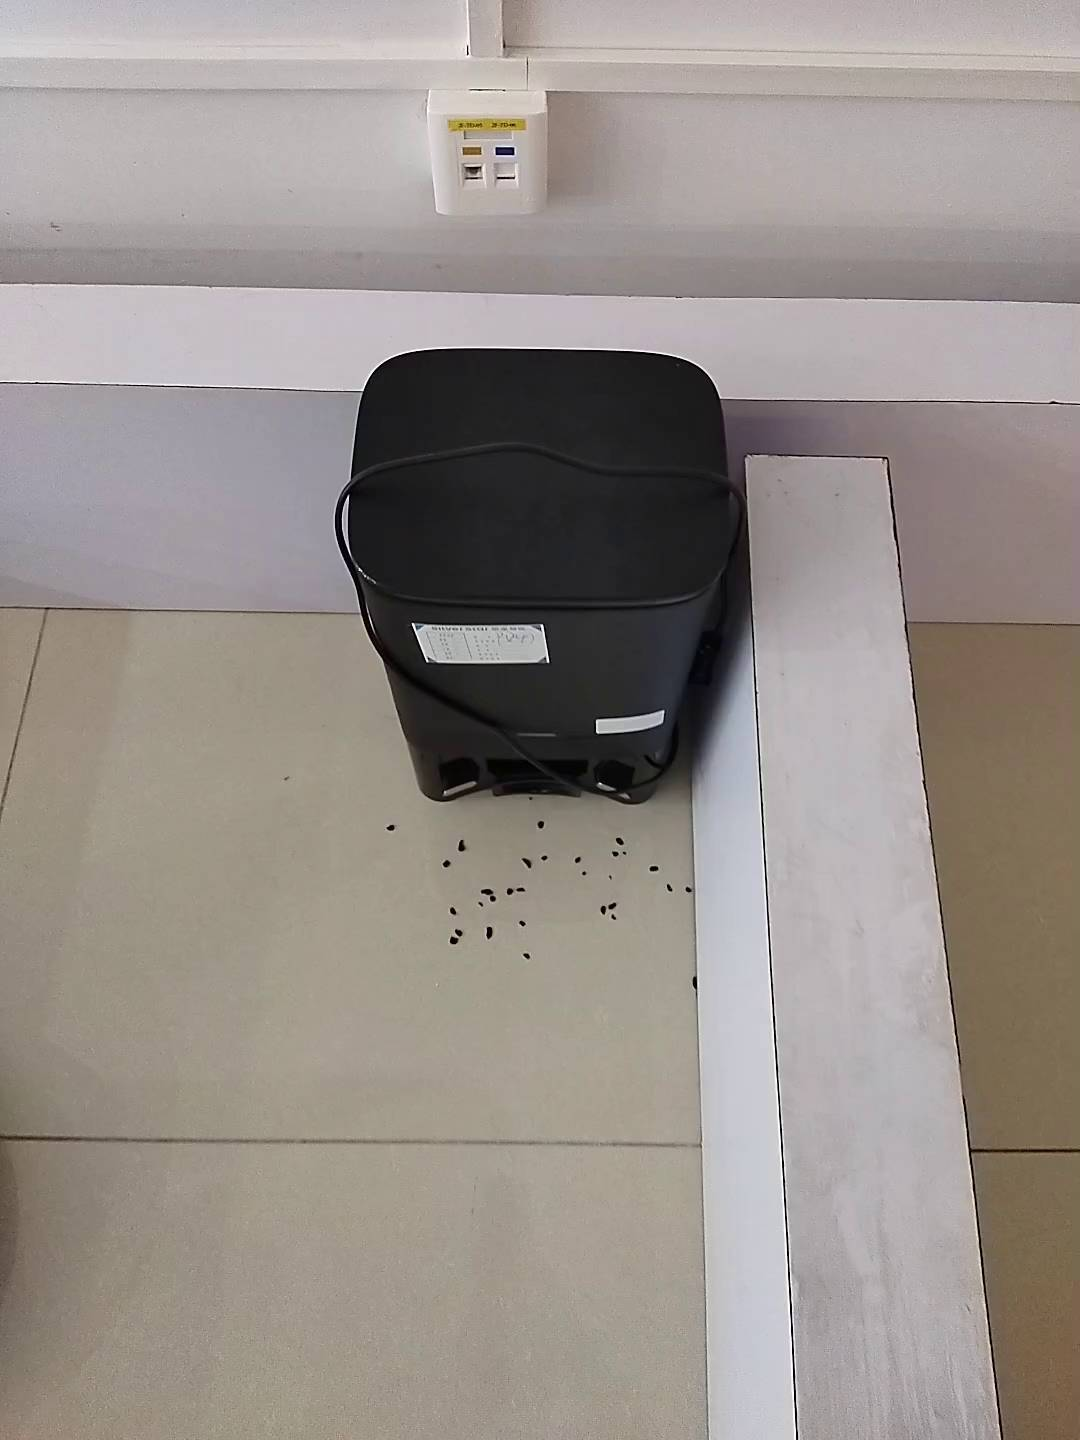dust collecting barrel: (347, 348, 729, 808)
